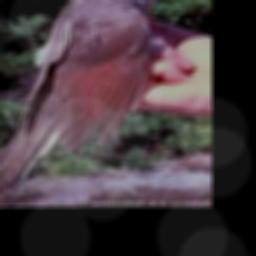Cuckoo: (0, 0, 205, 203)
